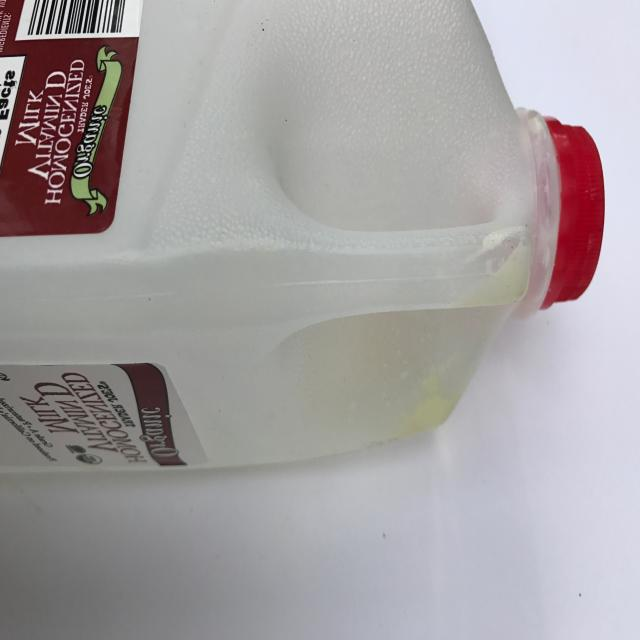plastic: (0, 0, 606, 472)
